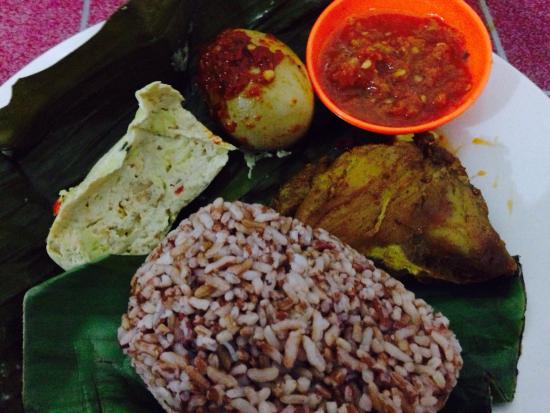Nasi Merah: (76, 198, 457, 402)
